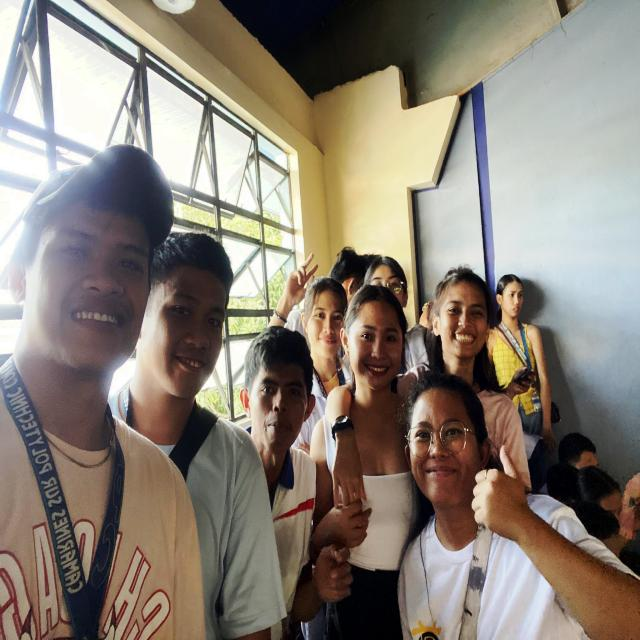thumbs_up: (469, 443, 531, 540)
